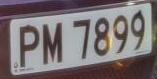7: (69, 16, 94, 62)
8: (91, 12, 113, 61)
9: (111, 10, 131, 57), (128, 9, 147, 52)
M: (40, 20, 65, 68)
P: (16, 22, 41, 71)
